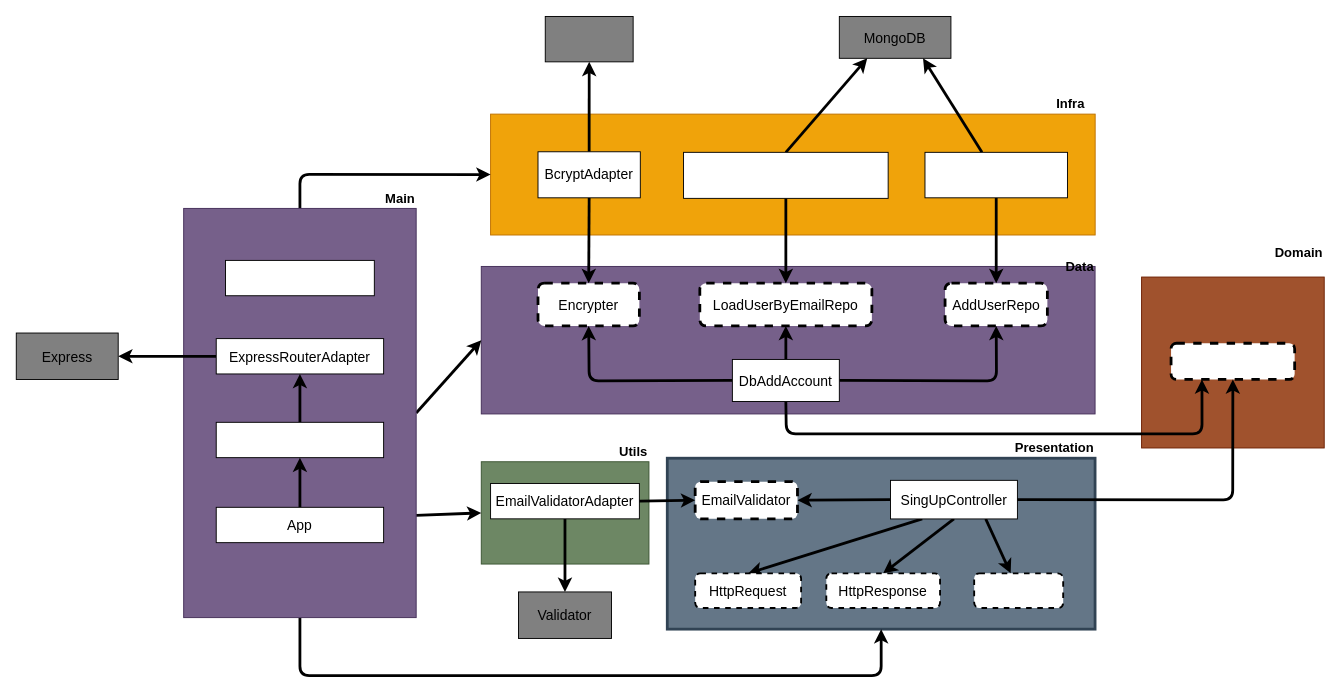
Image size: 1341x700. Some labels were removed from this diagram. The box of each missing label's shape, as (x1, y1, x2, y2) in pixels:
AddAccount: (1169, 341, 1296, 380)
AddUserMongoRepo: (924, 151, 1067, 198)
BCrypt: (544, 16, 633, 62)
Controller: (973, 572, 1064, 608)
LoadUserByEmailRepoMongo: (683, 151, 888, 198)
SingUpComposer: (225, 259, 374, 296)
SingUpRouter: (215, 421, 384, 458)
